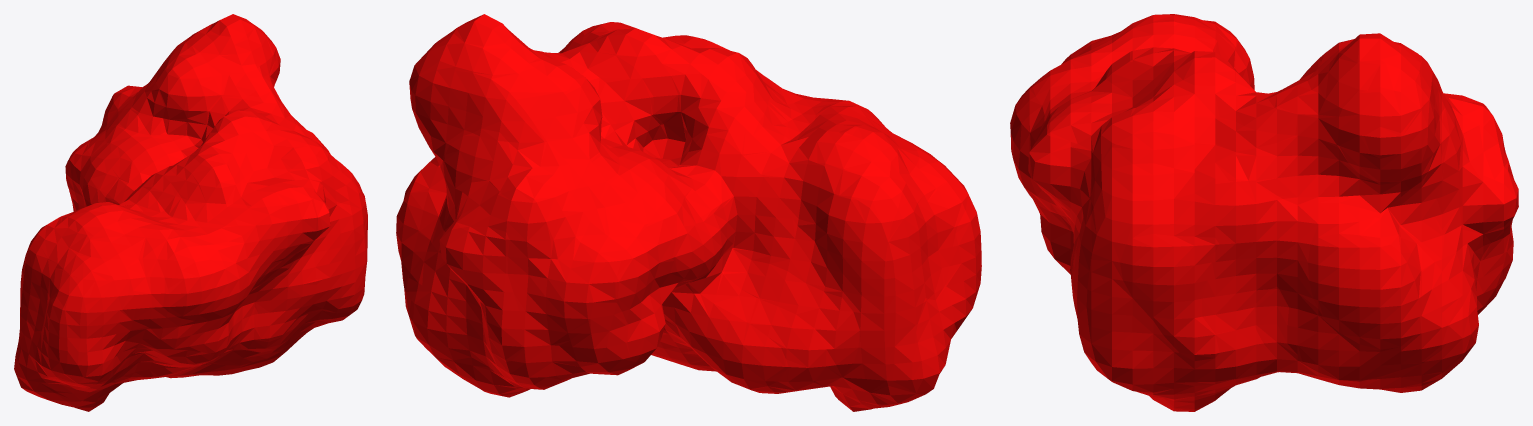
The model's file is hmp_coarse.dae.
The picture shows the model from 3 angles, left to right: view 1: azimuth 30°, elevation 25°; view 2: azimuth 150°, elevation 25°; view 3: azimuth 270°, elevation 25°; orthographic projection. The views are drawn at different scales.
Parts seen in each view (by area): view 1: hmp; view 2: hmp; view 3: hmp.
Part boxes in pixels (left/top/right/bottom): hmp: left=14, top=14, right=367, bottom=411; hmp: left=396, top=14, right=981, bottom=411; hmp: left=1010, top=14, right=1518, bottom=411.
Size of the model in its own units: 66.21 by 54.48 by 61.89.
